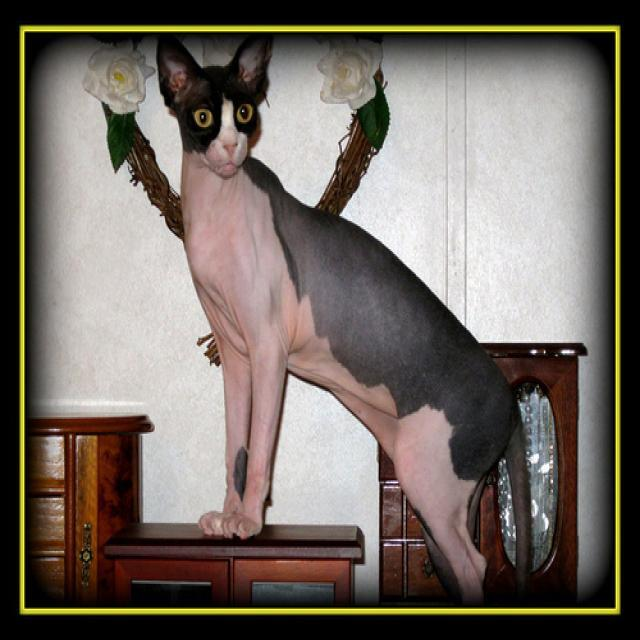Sphynx: (154, 30, 272, 175)
